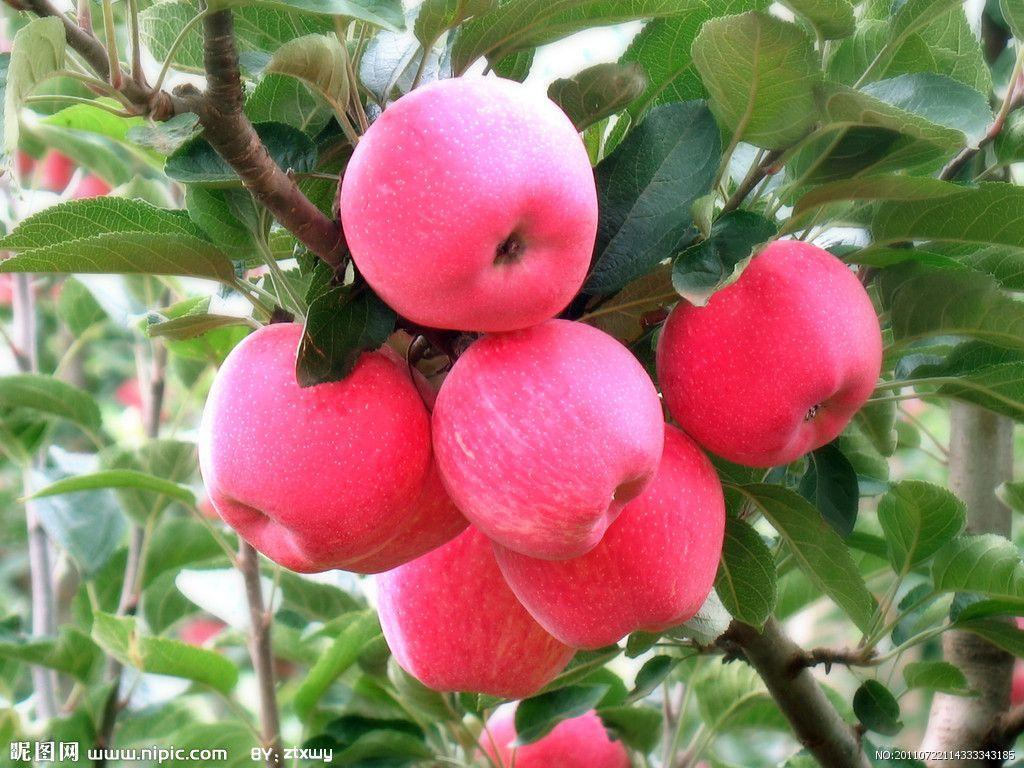apple: (335, 77, 599, 338), (196, 320, 453, 572), (427, 315, 671, 560), (489, 416, 727, 651), (657, 241, 881, 467), (375, 525, 577, 702), (493, 712, 629, 766)
